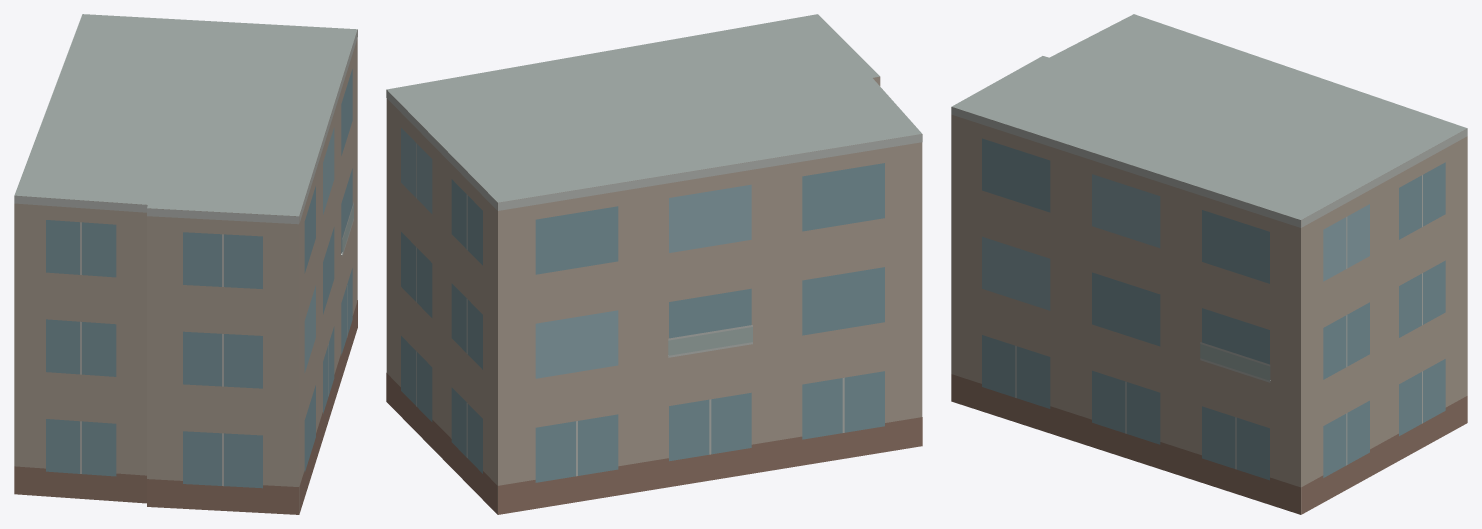
The model's file is survey-upis-32659790.glb.
3 views of the same model, side by side, from view 1: azimuth 30°, elevation 25°; view 2: azimuth 150°, elevation 25°; view 3: azimuth 270°, elevation 25° (orthographic). The views are drawn at different scales.
Parts seen in each view (by area): view 1: survey-upis-32659790.tmp; view 2: survey-upis-32659790.tmp; view 3: survey-upis-32659790.tmp.
Boxes of the visible parts, bbox=[...] form: survey-upis-32659790.tmp: bbox=[14, 14, 357, 514]; survey-upis-32659790.tmp: bbox=[386, 14, 922, 514]; survey-upis-32659790.tmp: bbox=[951, 14, 1467, 514].
Bounding box in the file's own units: 13.73 × 9.15 × 14.53.
